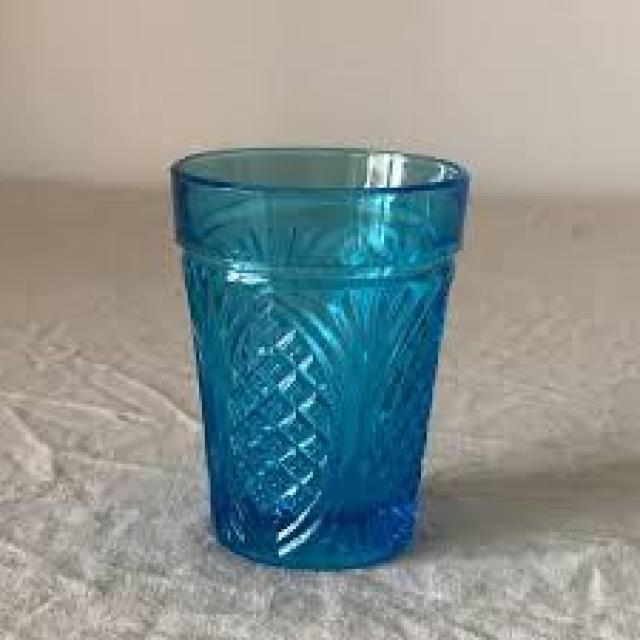glass: (169, 144, 474, 570)
